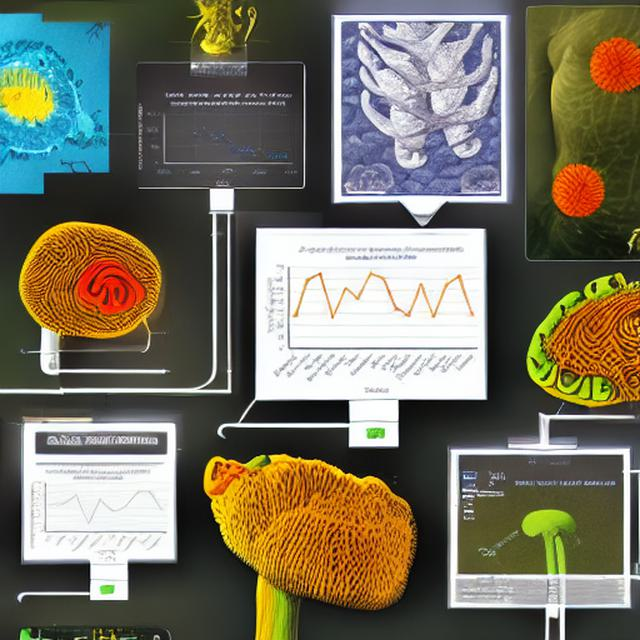Graph: (263, 242, 482, 396), (134, 88, 303, 188), (27, 468, 171, 554)
